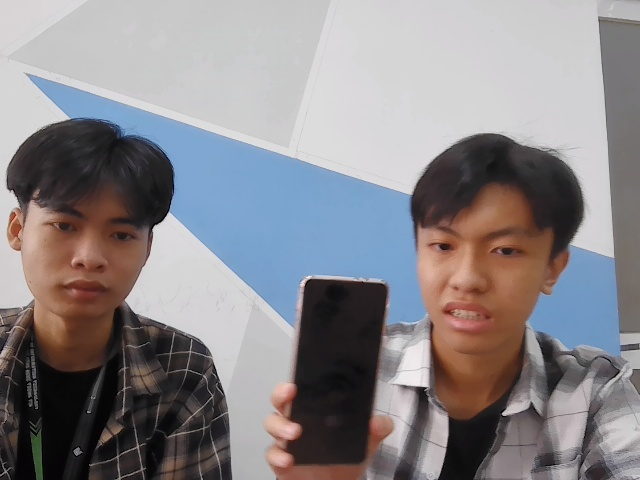human: (2, 117, 182, 326), (415, 140, 585, 343)
phone: (285, 269, 385, 471)
